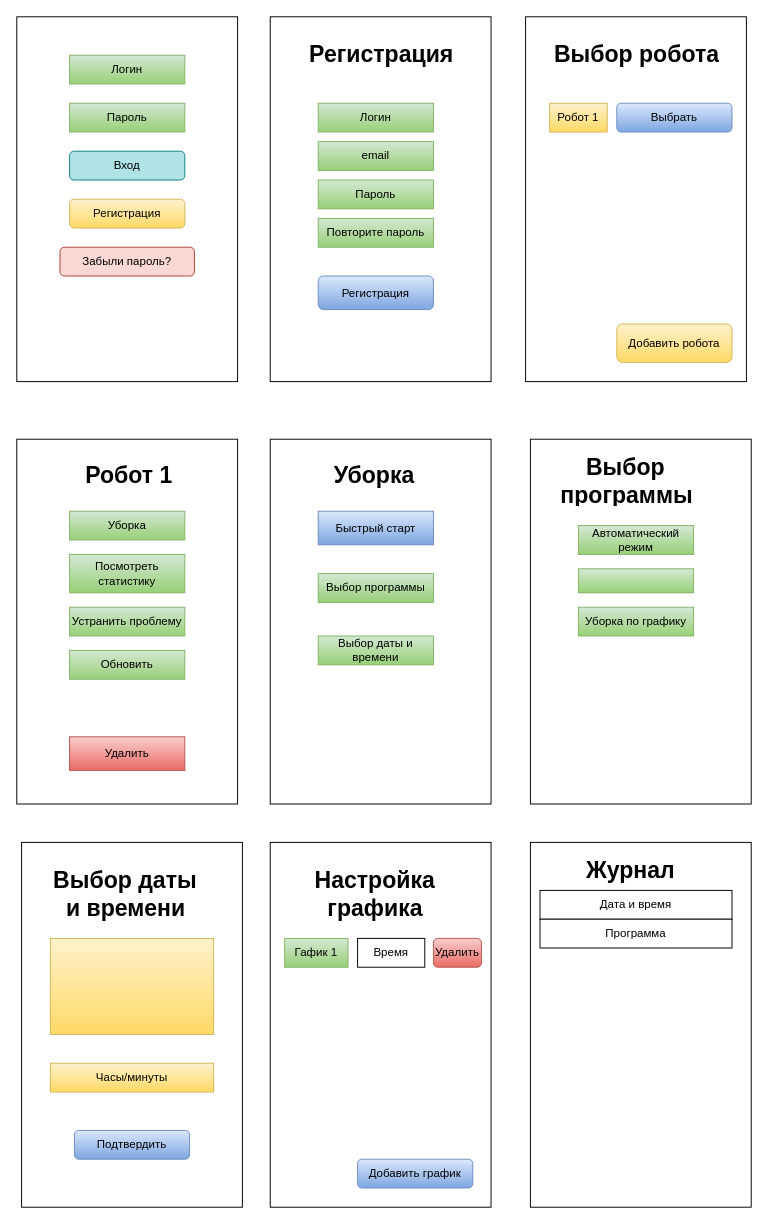
Image size: 768x1224. Some labels were removed from this diagram. The box of each missing label's shape, as (x1, y1, x2, y2) in pixels:
Влажная уборка: (577, 568, 694, 593)
Календарь: (49, 937, 214, 1034)
